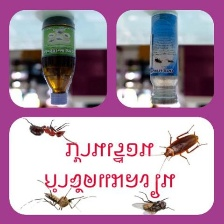insecticide: (38, 8, 79, 106), (145, 6, 183, 107)
